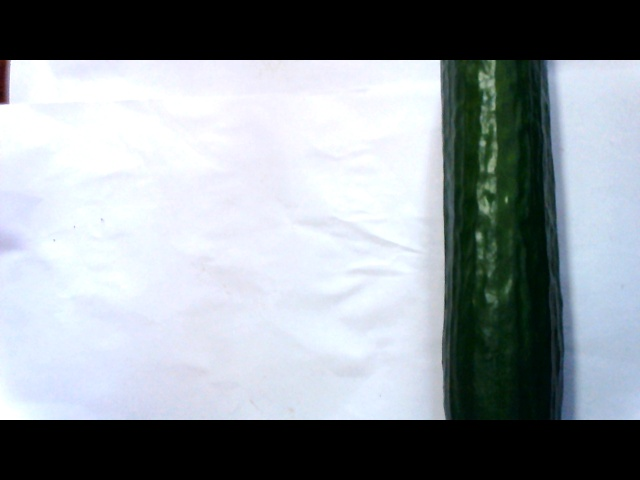cucumber: (420, 55, 577, 415)
